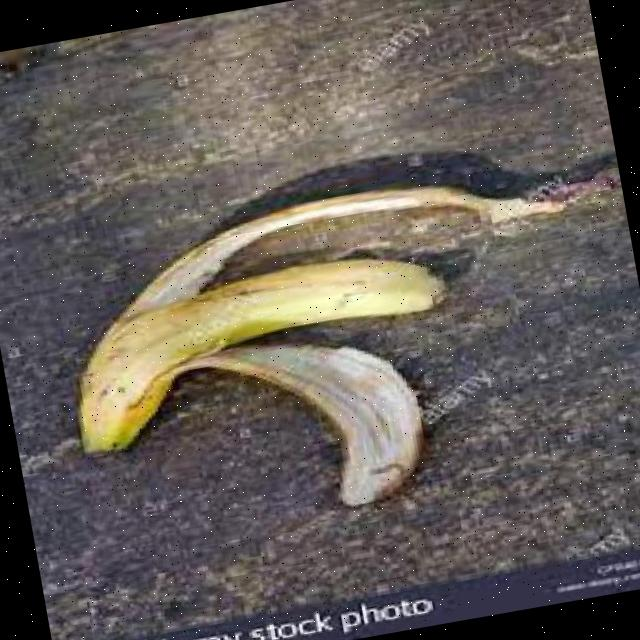banana-peel: (40, 130, 640, 551), (56, 236, 466, 458)
